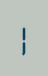one: (19, 19, 26, 56)
